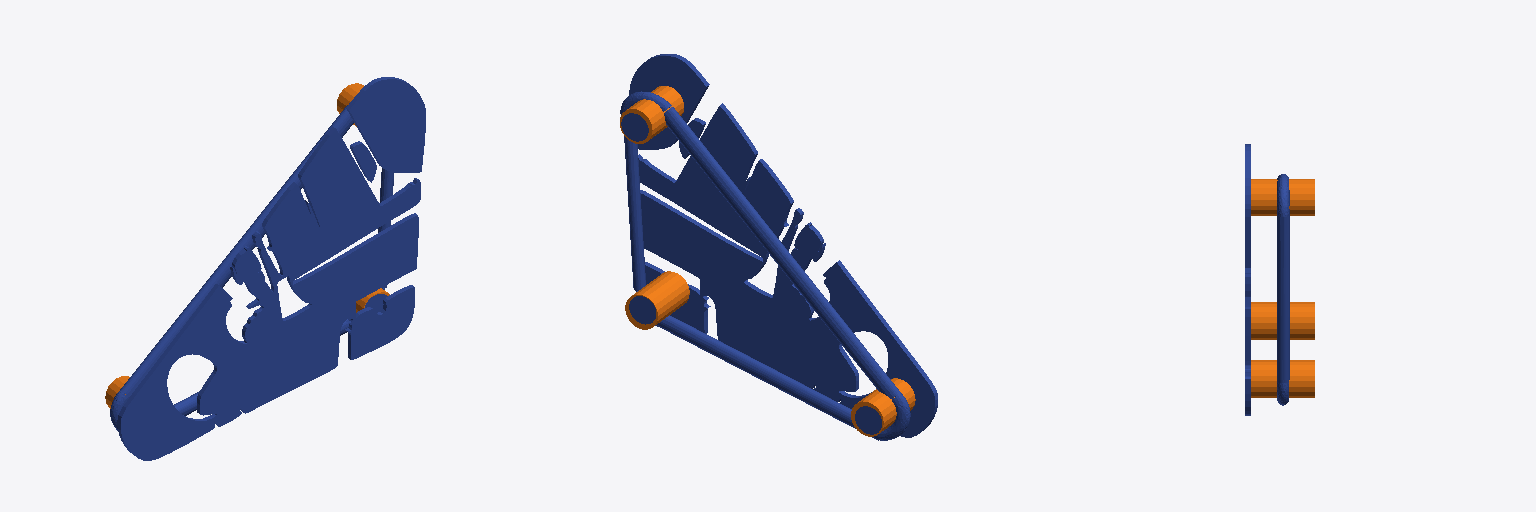
The model's file is tinker.obj.
3 views of the same model, side by side, from view 1: azimuth 30°, elevation 25°; view 2: azimuth 150°, elevation 25°; view 3: azimuth 270°, elevation 25° (orthographic).
Parts seen in each view (by area): view 1: obj_0; view 2: obj_0; view 3: obj_0.
Part boxes in pixels (left/top/right/bottom): obj_0: left=105, top=77, right=425, bottom=460; obj_0: left=620, top=54, right=937, bottom=440; obj_0: left=1245, top=144, right=1314, bottom=415.
Size of the model in its own units: 55.58 by 56.3 by 11.